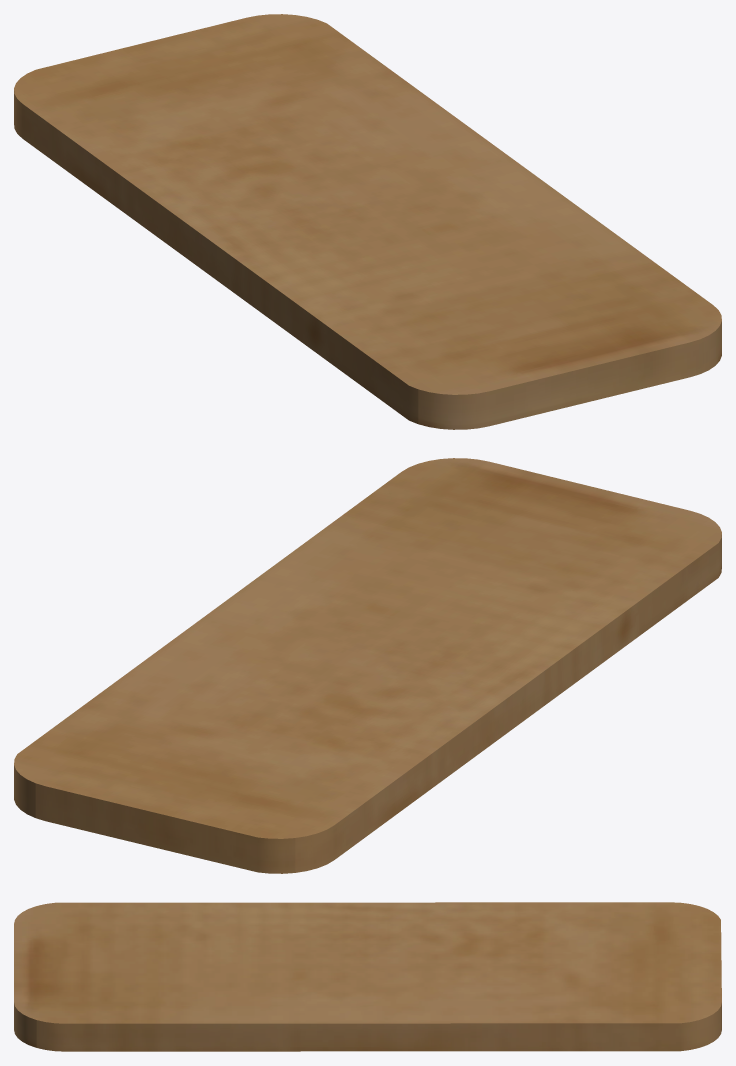
The model's file is tower_body__status_window.glb.
3 renders of one model, top to bottom at view 1: azimuth 30°, elevation 25°; view 2: azimuth 150°, elevation 25°; view 3: azimuth 270°, elevation 25°, orthographic. The views are drawn at different scales.
Parts seen in each view (by area): view 1: geometry_0; view 2: geometry_0; view 3: geometry_0.
Boxes of the visible parts, left/top/right/bottom form: geometry_0: left=14, top=14, right=721, bottom=429; geometry_0: left=14, top=458, right=721, bottom=873; geometry_0: left=14, top=902, right=721, bottom=1051.
Bounding box in the file's own units: 0.056 × 0.006 × 0.138.
1 material, 1 textured.
